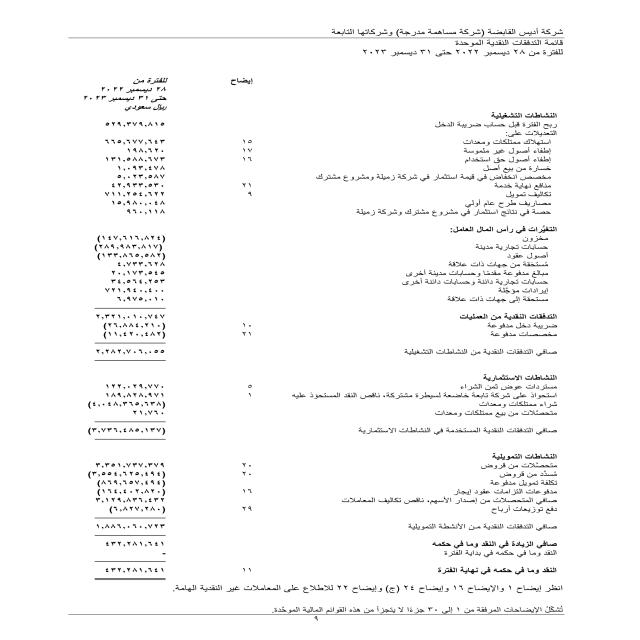financial_sheets: (450, 39, 588, 47)
table: (42, 64, 269, 586)
